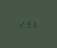nine: (25, 19, 30, 28)
three: (31, 20, 36, 28)
two: (18, 19, 23, 27)
